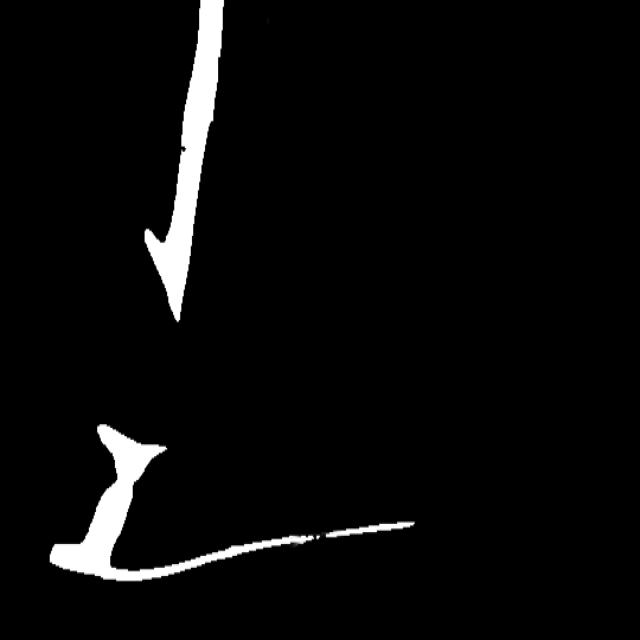inf: (308, 525, 336, 550)
